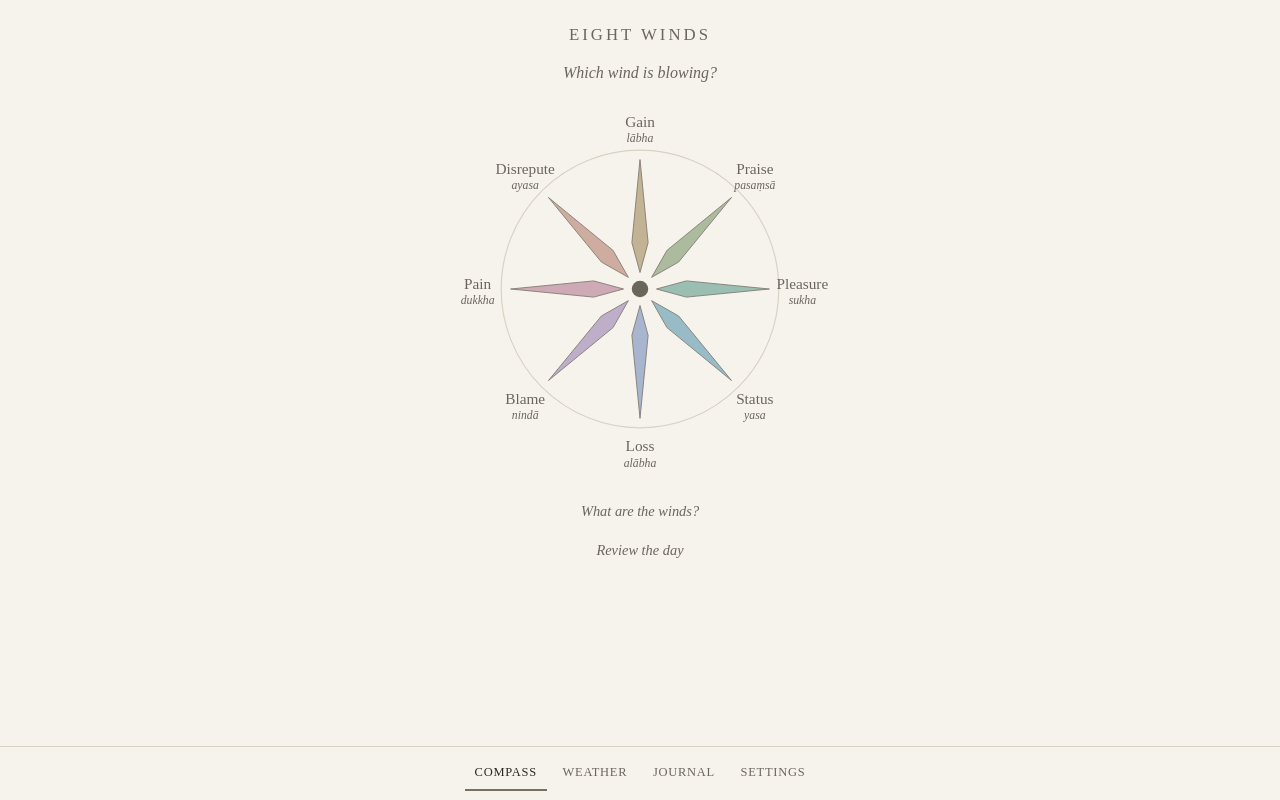
Test: navigation › reaches the weather dashboard
Click the link "Weather" at [595, 772], box [562,765,627,779]
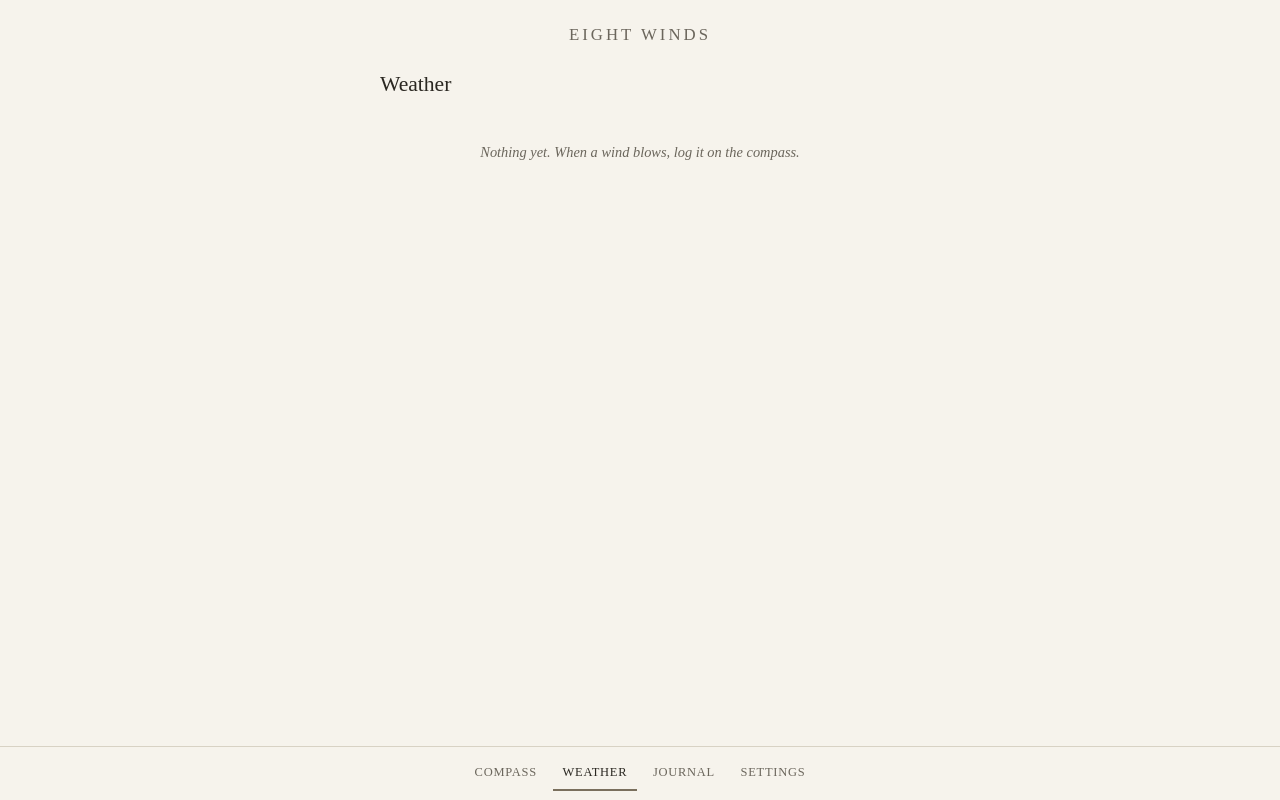
Check: the heading "Weather" is shown, box [380,72,451,96]
